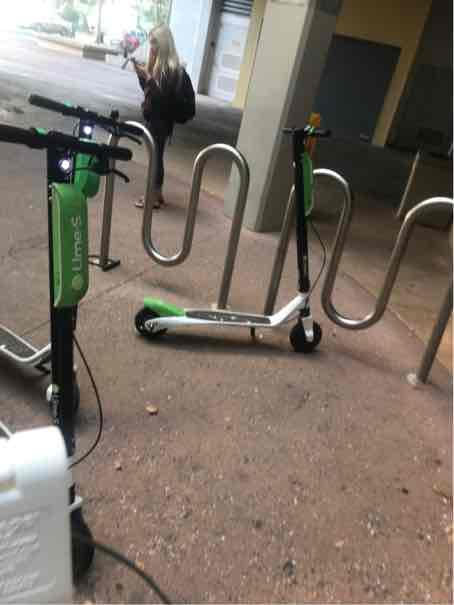scooter: (135, 108, 353, 361)
